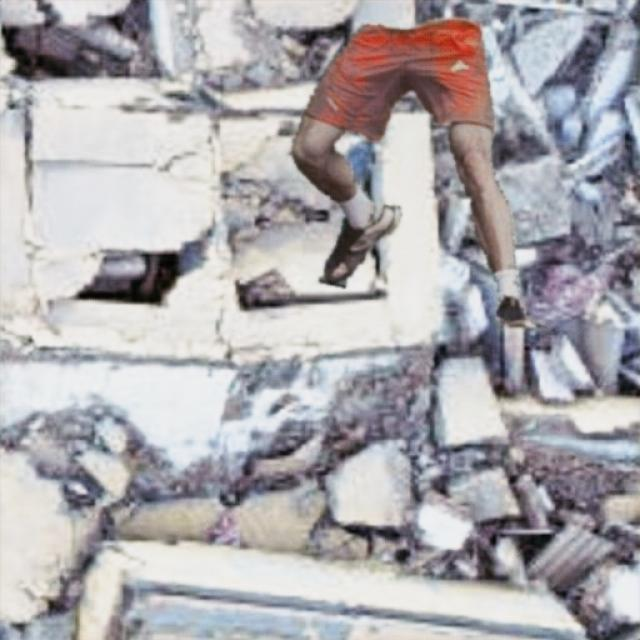Person in Rubble: (289, 18, 545, 326)
